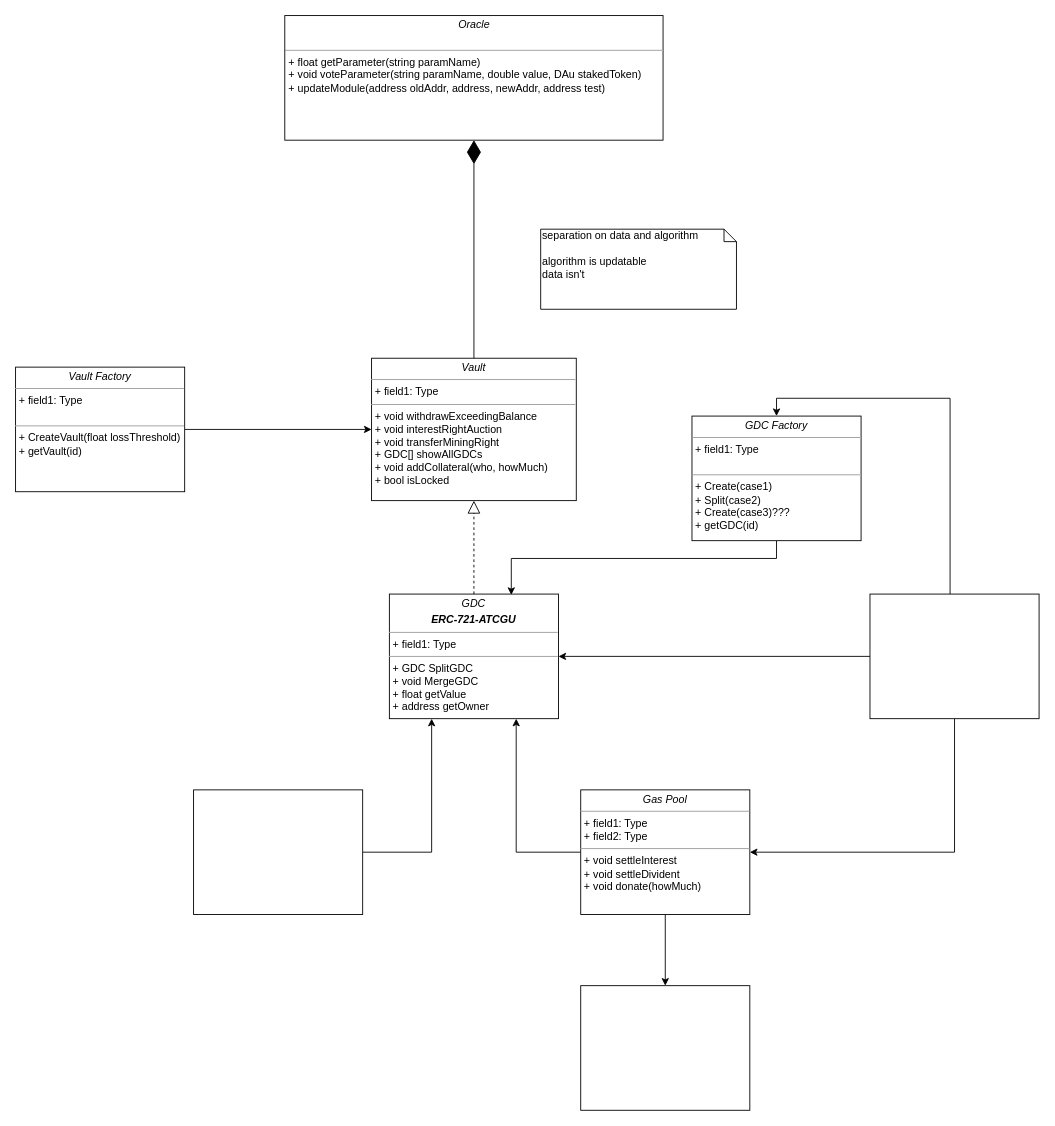
Image size: 1055x1126. Some labels were removed from this diagram. Here are the shapes that lost their labels. From the top down, the centre of each, then its label:
At point 954,656: "GDC Wallet + address owner + void transferTo(GDCWallet)".
At point 278,851: "GDC Pool + field1: Type + field2: Type + void Buy + void Burn".
At point 665,1047: "Globle Manager??? + field1: Type + field2: Type + getAllVaults + getAllGDCs????".
